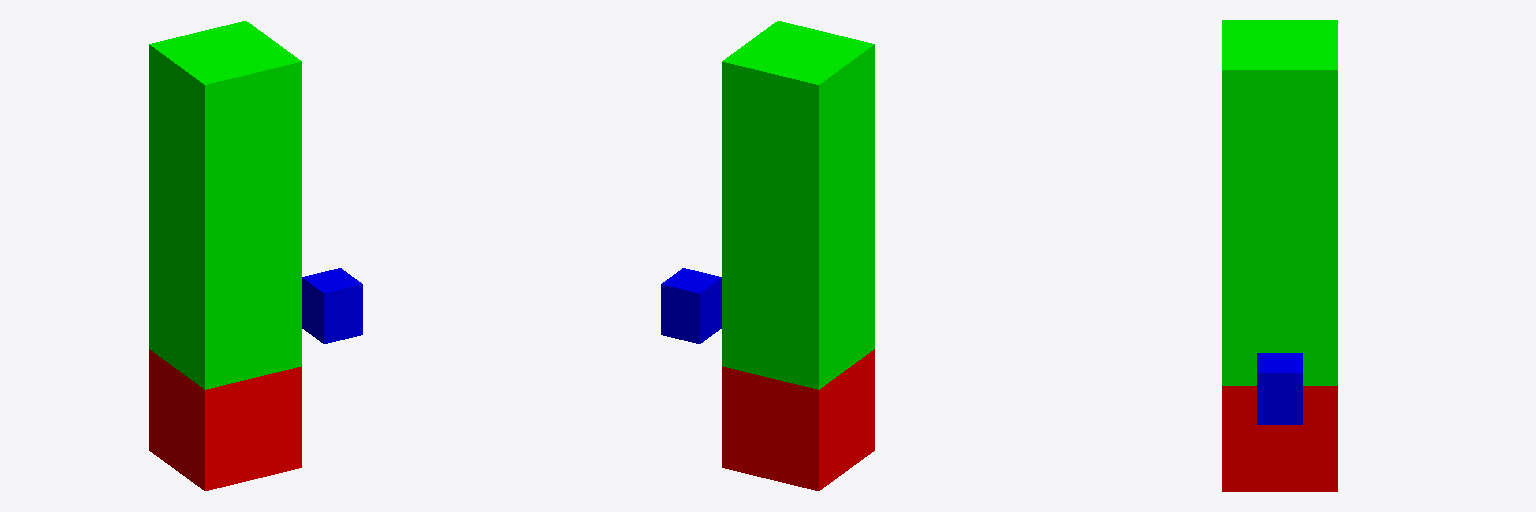
robot.urdf — lhand_robot:
<?xml version="1.0"?>
<robot name="lhand_robot">

  <link name="base_link">
    <visual>
      <geometry>
        <box size="0.2 0.2 0.2"/>
      </geometry>
      <material name="red">
        <color rgba="1 0 0 1"/>
      </material>
    </visual>
  </link>

  <link name="lhand_link">
    <visual>
      <origin rpy="0 0 0" xyz="0 0 0.3"/>
      <geometry>
        <box size="0.2 0.2 0.6"/>
      </geometry>
      <material name="green">
        <color rgba="0 1 0 1"/>
      </material>
    </visual>
  </link>

  <link name="lhand_detach_link_0">
    <visual>
      <origin rpy="0 0 0" xyz="0.12 0 0.05"/>
      <geometry>
        <box size="0.08 0.08 0.1"/>
      </geometry>
      <material name="blue">
        <color rgba="0 0 1 1"/>
      </material>
    </visual>
  </link>

  <!--
    Joint limits are example values for XC330-T288-T with sample_trans (it is written later).
    effort: (Stall Torque [Nm]) * (mechanicalReduction in sample_trans) = 0.92 * 1.0
    velocity: (No Load Speed [rad/s]) / (mechanicalReduction in sample_trans) = (65 [rev/min] * 2 * pi / 60) / 1.0
  -->
  <joint name="lhand_joint" type="continuous">
    <origin rpy="0 0 0" xyz="0 0 0.1"/>
    <parent link="base_link"/>
    <child link="lhand_link"/>
    <axis xyz="0 1 0"/>
    <limit effort="2.00" velocity="6.8"/>
  </joint>

  <joint name="lhand_detach_joint_0" type="continuous">
    <origin rpy="0 0 0" xyz="0.1 0 0.1"/>
    <parent link="base_link"/>
    <child link="lhand_detach_link_0"/>
    <axis xyz="0 1 0"/>
    <limit effort="2.0" velocity="6.8"/>
  </joint>

  <transmission name="lhand_trans">
    <type>transmission_interface/SimpleTransmission</type>
    <joint name="lhand_joint">
      <hardwareInterface>hardware_interface/PositionJointInterface</hardwareInterface>
      <hardwareInterface>hardware_interface/EffortJointInterface</hardwareInterface>
      <offset>0.0</offset>
    </joint>
    <actuator name="lhand_motor">
      <mechanicalReduction>1.0</mechanicalReduction>
    </actuator>
  </transmission>

  <transmission name="lhand_detach_trans_0">
    <type>transmission_interface/SimpleTransmission</type>
    <joint name="lhand_detach_joint_0">
      <hardwareInterface>hardware_interface/PositionJointInterface</hardwareInterface>
      <hardwareInterface>hardware_interface/EffortJointInterface</hardwareInterface>
      <offset>0.0</offset>
    </joint>
    <actuator name="lhand_detach_motor_0">
      <mechanicalReduction>1.0</mechanicalReduction>
    </actuator>
  </transmission>

</robot>

--- What the picture shows (computed from the rendered views, not written in the file) ---
The picture shows the robot from 3 angles, left to right: view 1: azimuth 30°, elevation 25°; view 2: azimuth 150°, elevation 25°; view 3: azimuth 270°, elevation 25°; orthographic projection.
Model lhand_robot with 3 links and 2 joints (2 continuous), rooted at base_link, posed all joints at 0.
Links seen in each view (by area): view 1: lhand_link, base_link, lhand_detach_link_0; view 2: lhand_link, base_link, lhand_detach_link_0; view 3: lhand_link, base_link, lhand_detach_link_0.
Boxes of the visible links, bbox=[...] form: lhand_link: bbox=[149, 21, 301, 389]; base_link: bbox=[149, 349, 301, 490]; lhand_detach_link_0: bbox=[302, 268, 362, 343]; lhand_link: bbox=[722, 21, 874, 389]; base_link: bbox=[722, 349, 874, 490]; lhand_detach_link_0: bbox=[661, 268, 721, 343]; lhand_link: bbox=[1222, 20, 1337, 385]; base_link: bbox=[1222, 386, 1337, 491]; lhand_detach_link_0: bbox=[1257, 353, 1302, 424].
Size in the robot's own frame: 0.36 by 0.2 by 0.8 metres.
Geometry: primitives only (box / cylinder / sphere), no mesh files.
